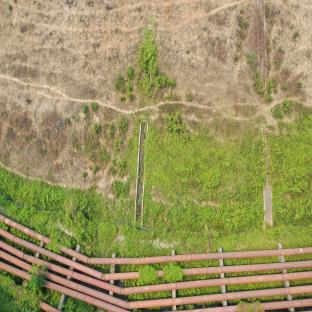slope_drain: (132, 119, 148, 233), (253, 0, 268, 94), (260, 131, 274, 231)
vegetation: (117, 31, 182, 98), (48, 191, 97, 244)
